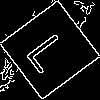L: (24, 25, 78, 76)
